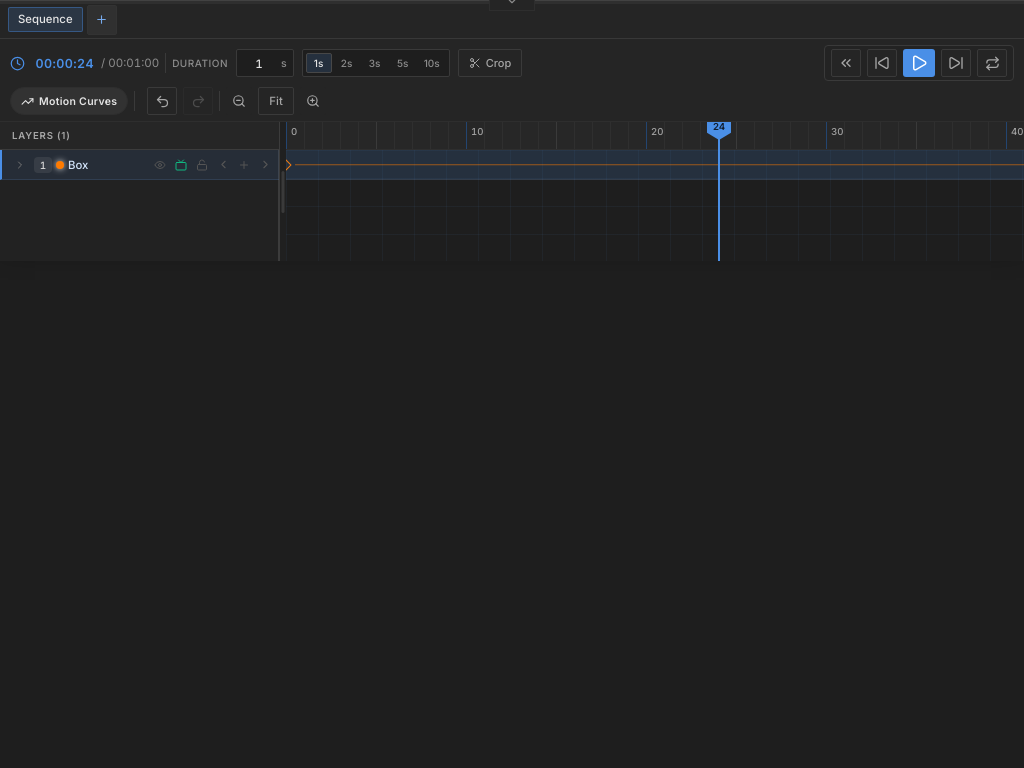
Scenario: K1 — deactivation asks, cancels clean, confirms atomic (D2) › cancel mutates nothing (not even a history entry)
Click the button with class "ue-expand-btn": (20, 164) [10,154,30,174]
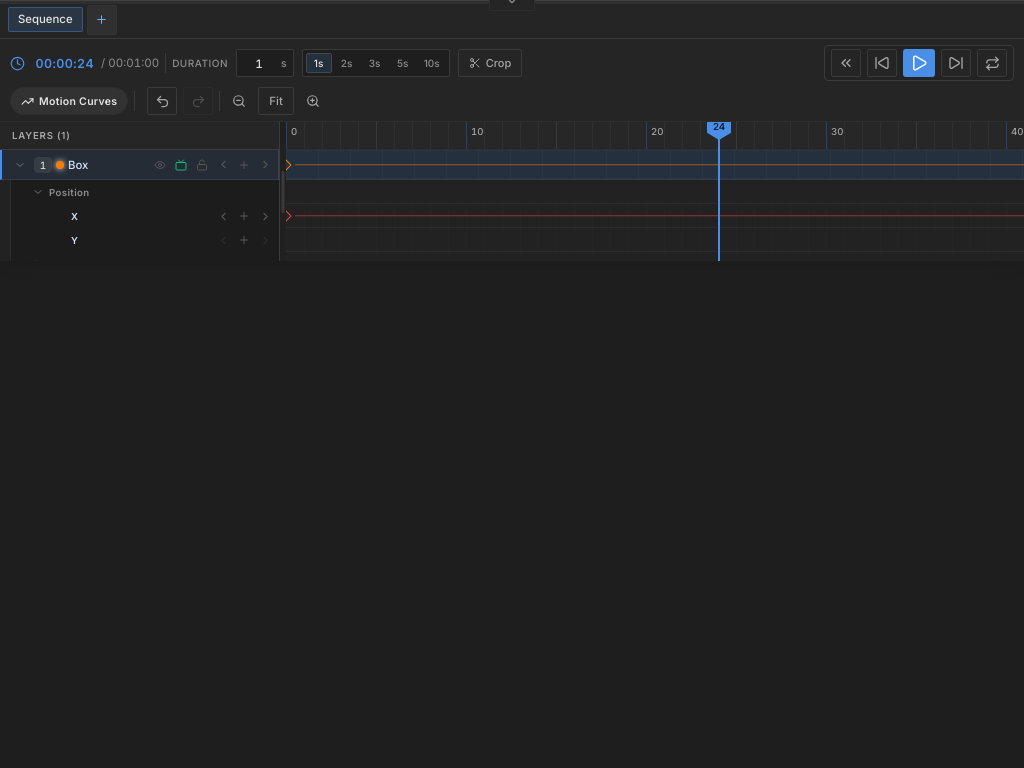
Right-click the element showing "X": (74, 216) [71,206,275,226]
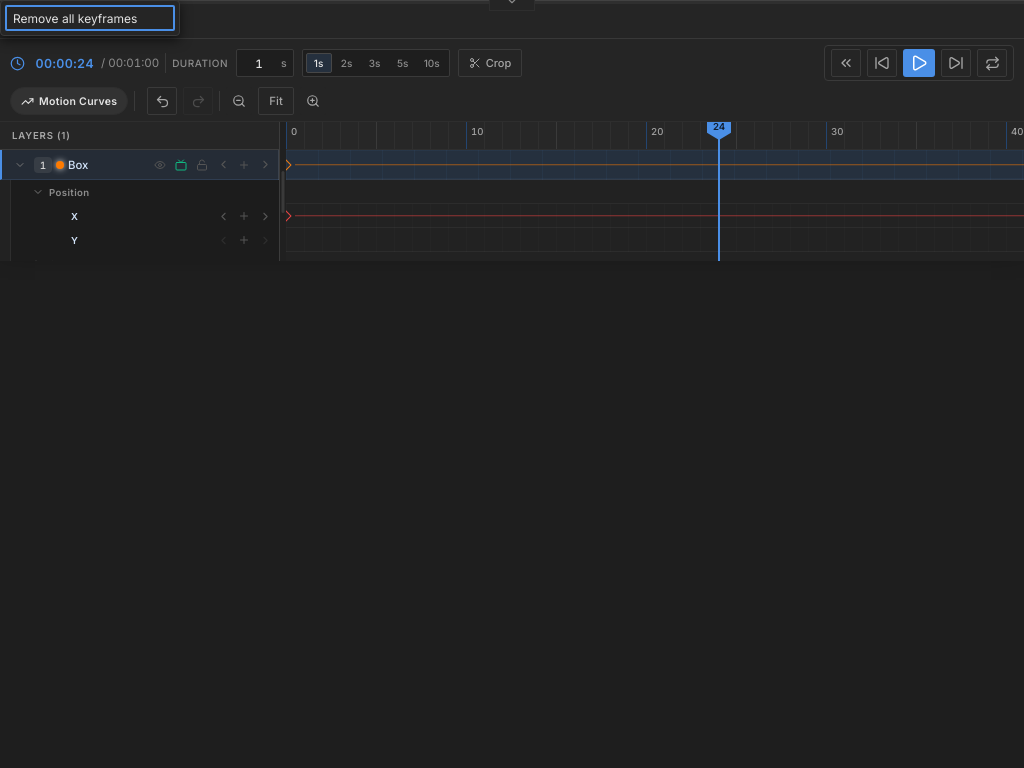
Click the menu item "Remove all keyframes": (90, 18) [5,5,175,31]
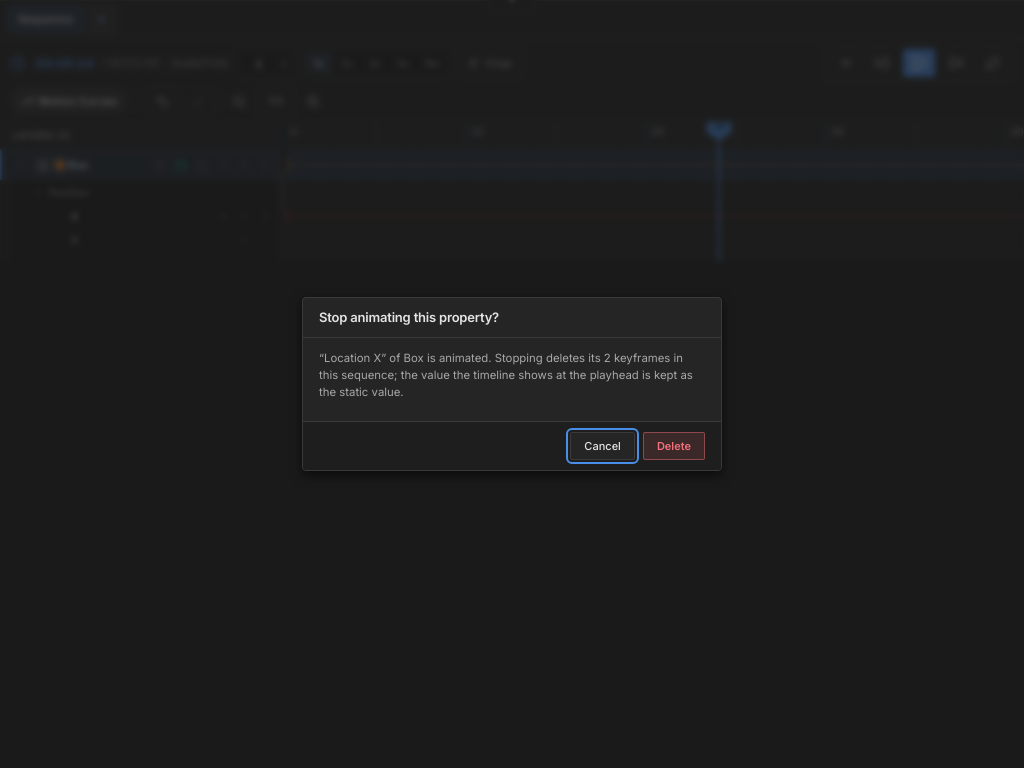
Click the button with class "confirmation-dialog-cancel": (603, 446) [570,432,635,460]
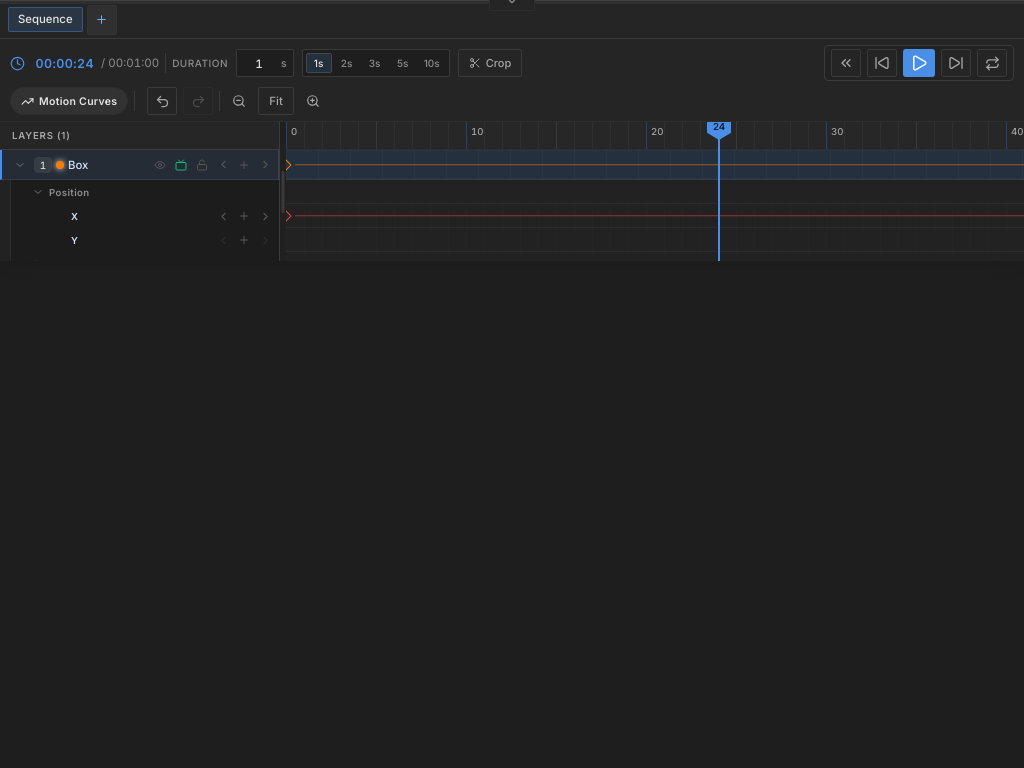
Result: the dialog with class "confirmation-dialog" is gone
